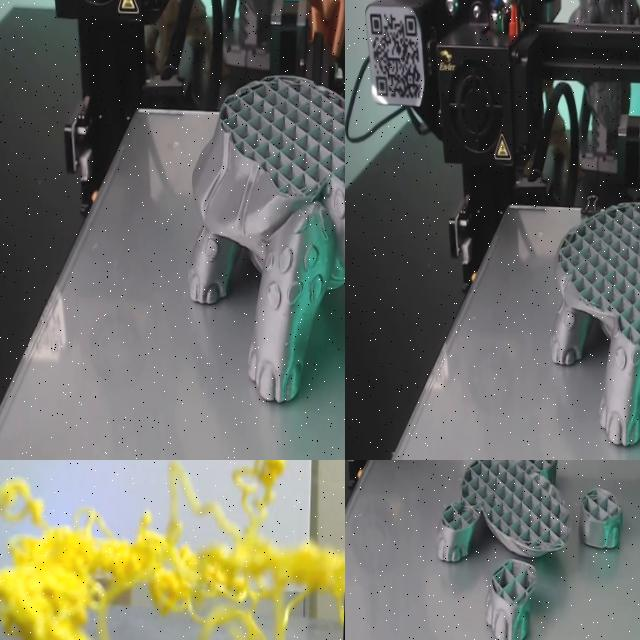spaghetti: (0, 460, 345, 640)
